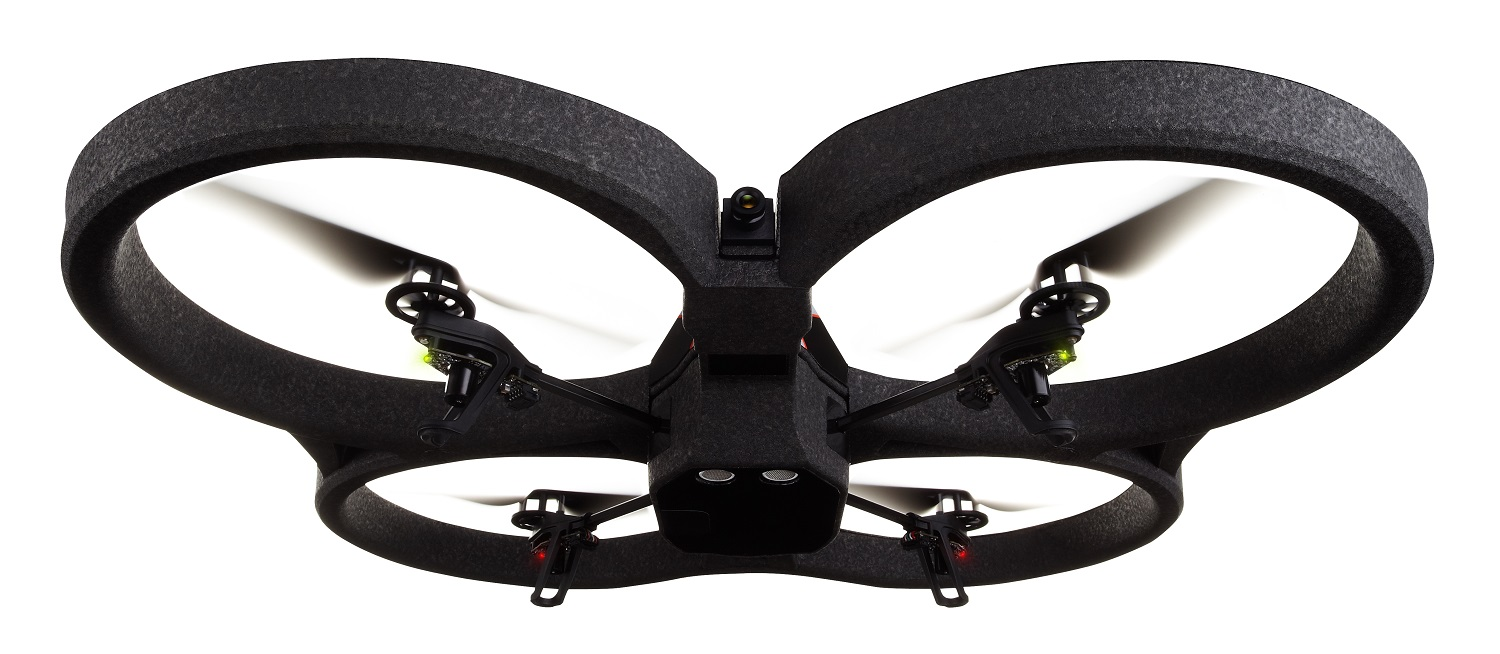drone: (58, 56, 1439, 617)
